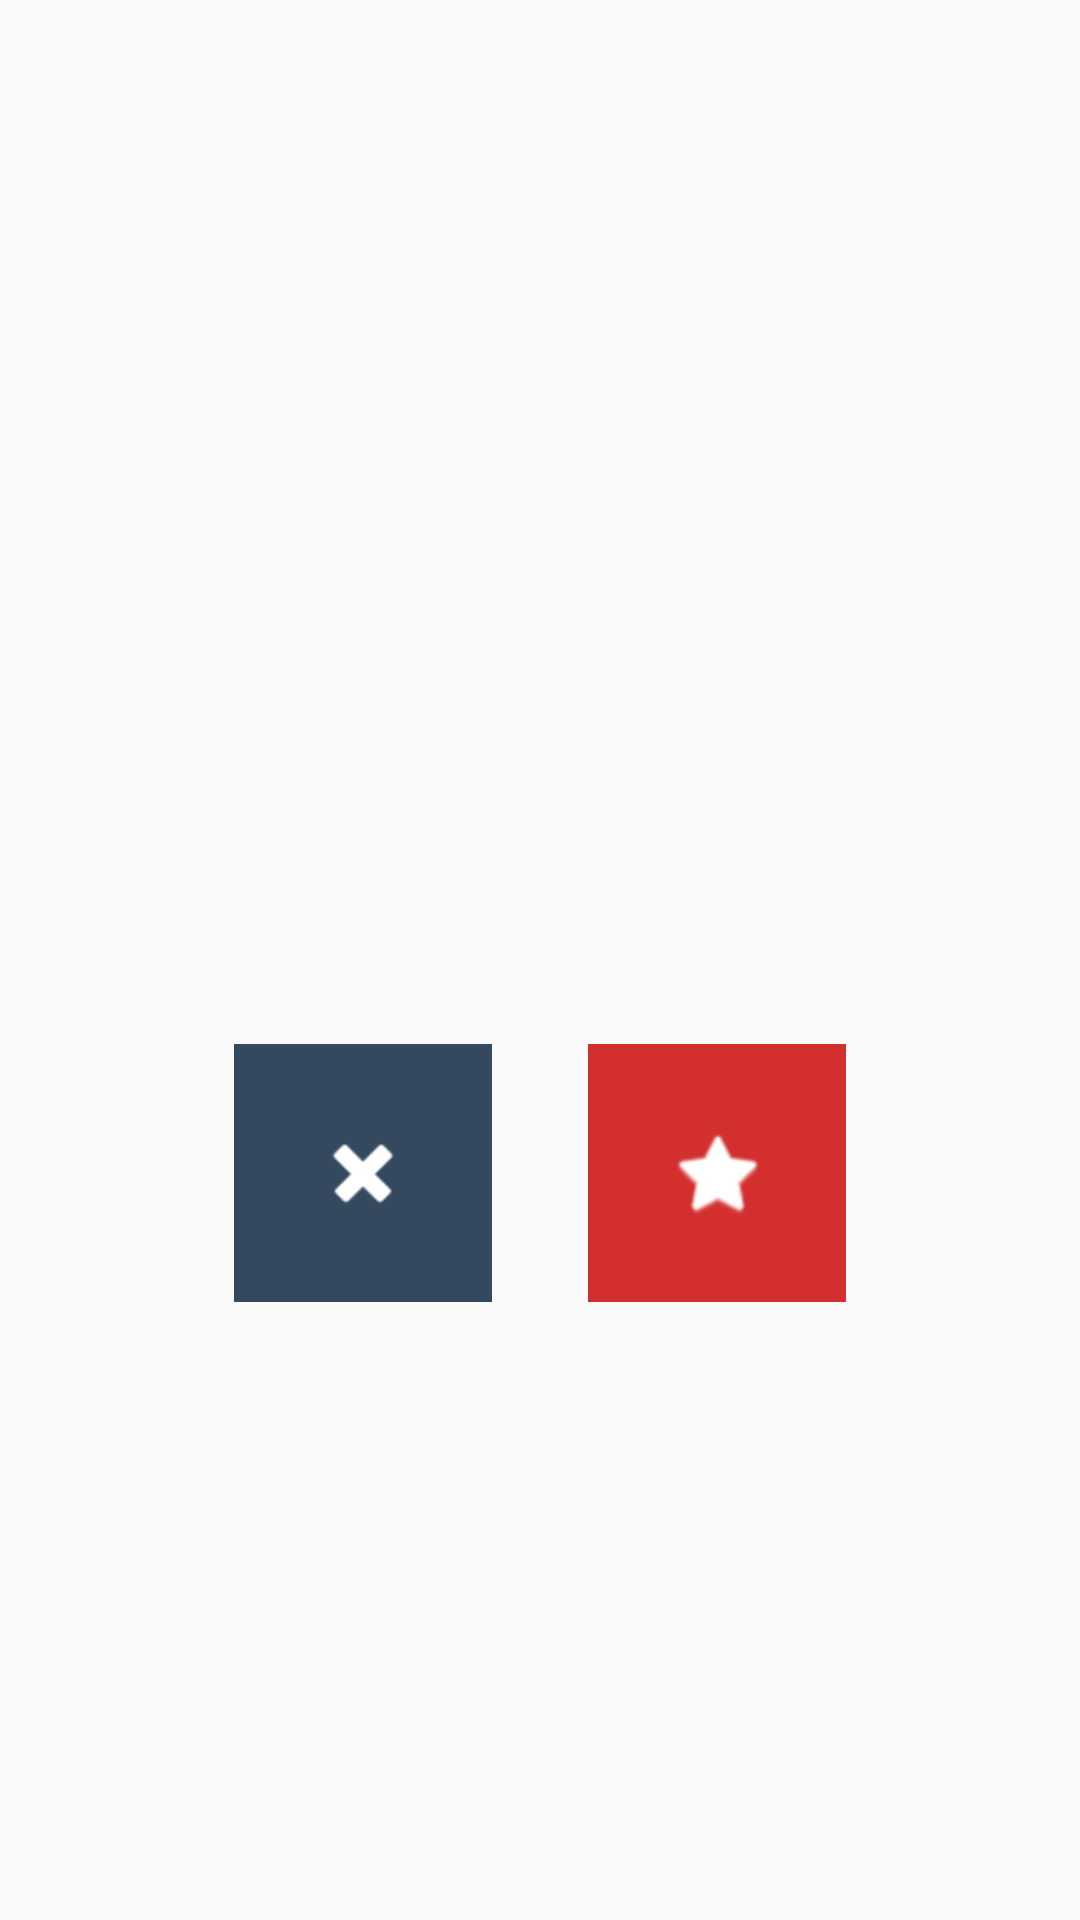

Screen size 1080px×1920px. Icon name, then its center in pixels as (x,y):
delete: (363,1173)
star on: (717,1173)
